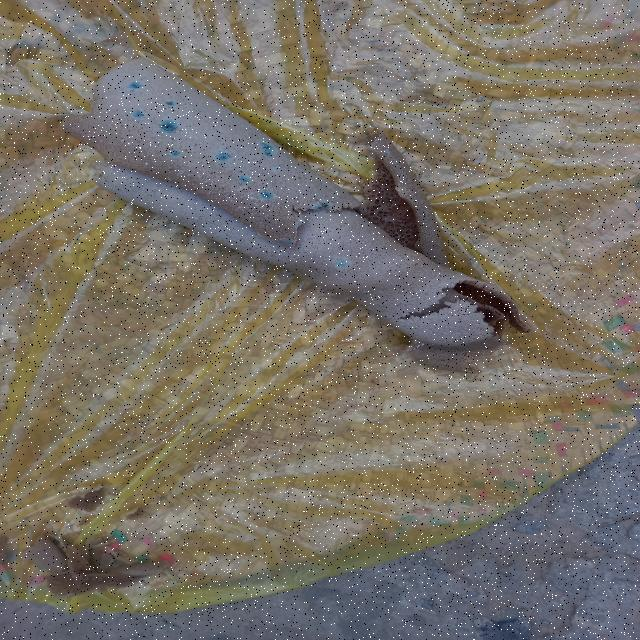injera_mold: (259, 138, 274, 161), (334, 256, 351, 275), (161, 119, 176, 135), (164, 146, 184, 158), (276, 236, 295, 248), (312, 199, 332, 210), (259, 189, 276, 201), (127, 80, 144, 92), (213, 152, 233, 162), (130, 109, 148, 120), (164, 97, 179, 108), (395, 186, 408, 197), (238, 176, 251, 186), (414, 343, 428, 350), (120, 138, 132, 146), (296, 220, 305, 228), (384, 147, 391, 155), (177, 170, 186, 176), (166, 177, 174, 182), (126, 135, 132, 140), (367, 144, 372, 150), (144, 162, 149, 167), (274, 167, 279, 172), (248, 197, 256, 200), (208, 183, 215, 186), (206, 192, 212, 194), (99, 140, 103, 143), (205, 190, 208, 192), (130, 104, 133, 106)
